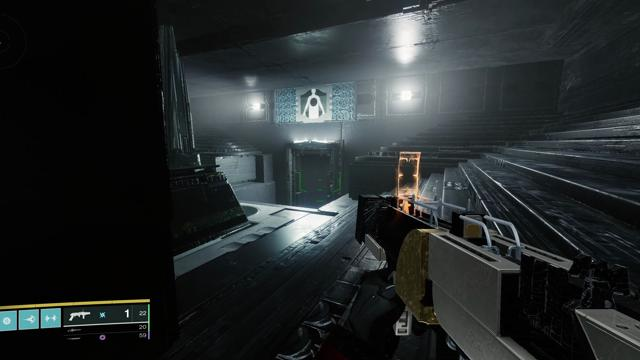grief: (300, 89, 327, 118)
